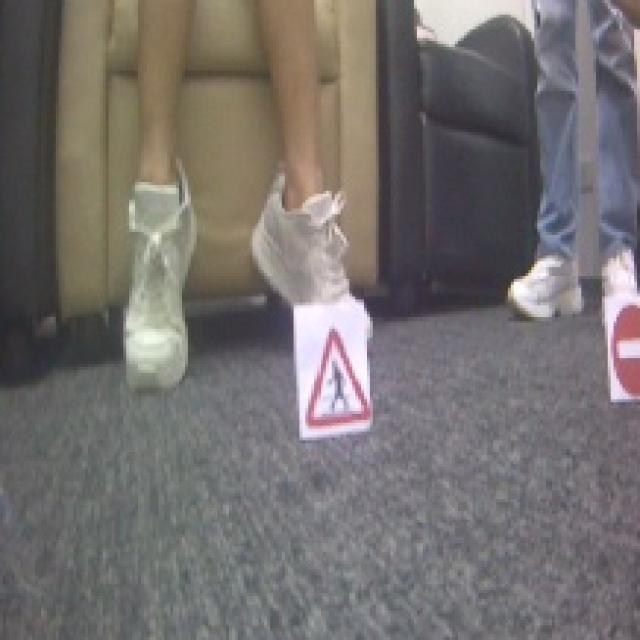DoNotEnterSign: (607, 299, 640, 402)
